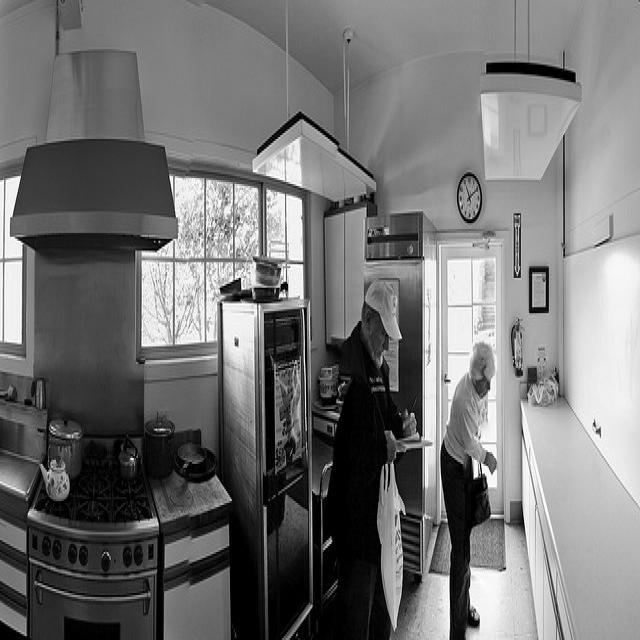monkey: (327, 278, 417, 638), (439, 340, 496, 640)
